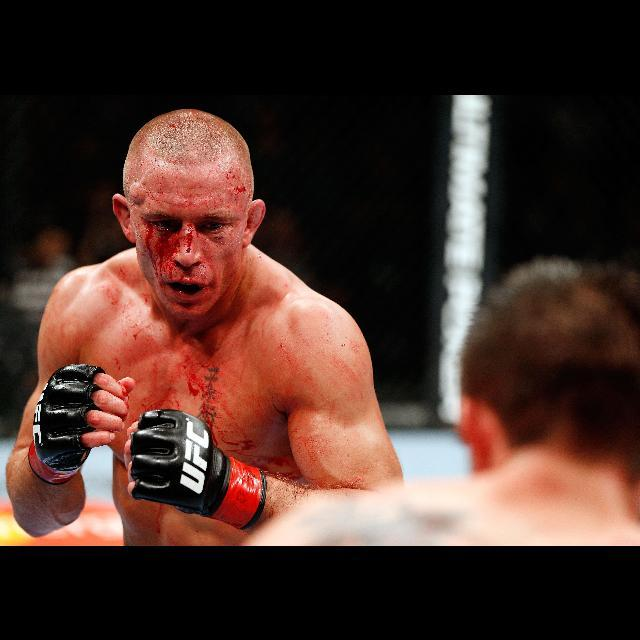blood: (101, 258, 311, 486), (113, 147, 265, 334)
